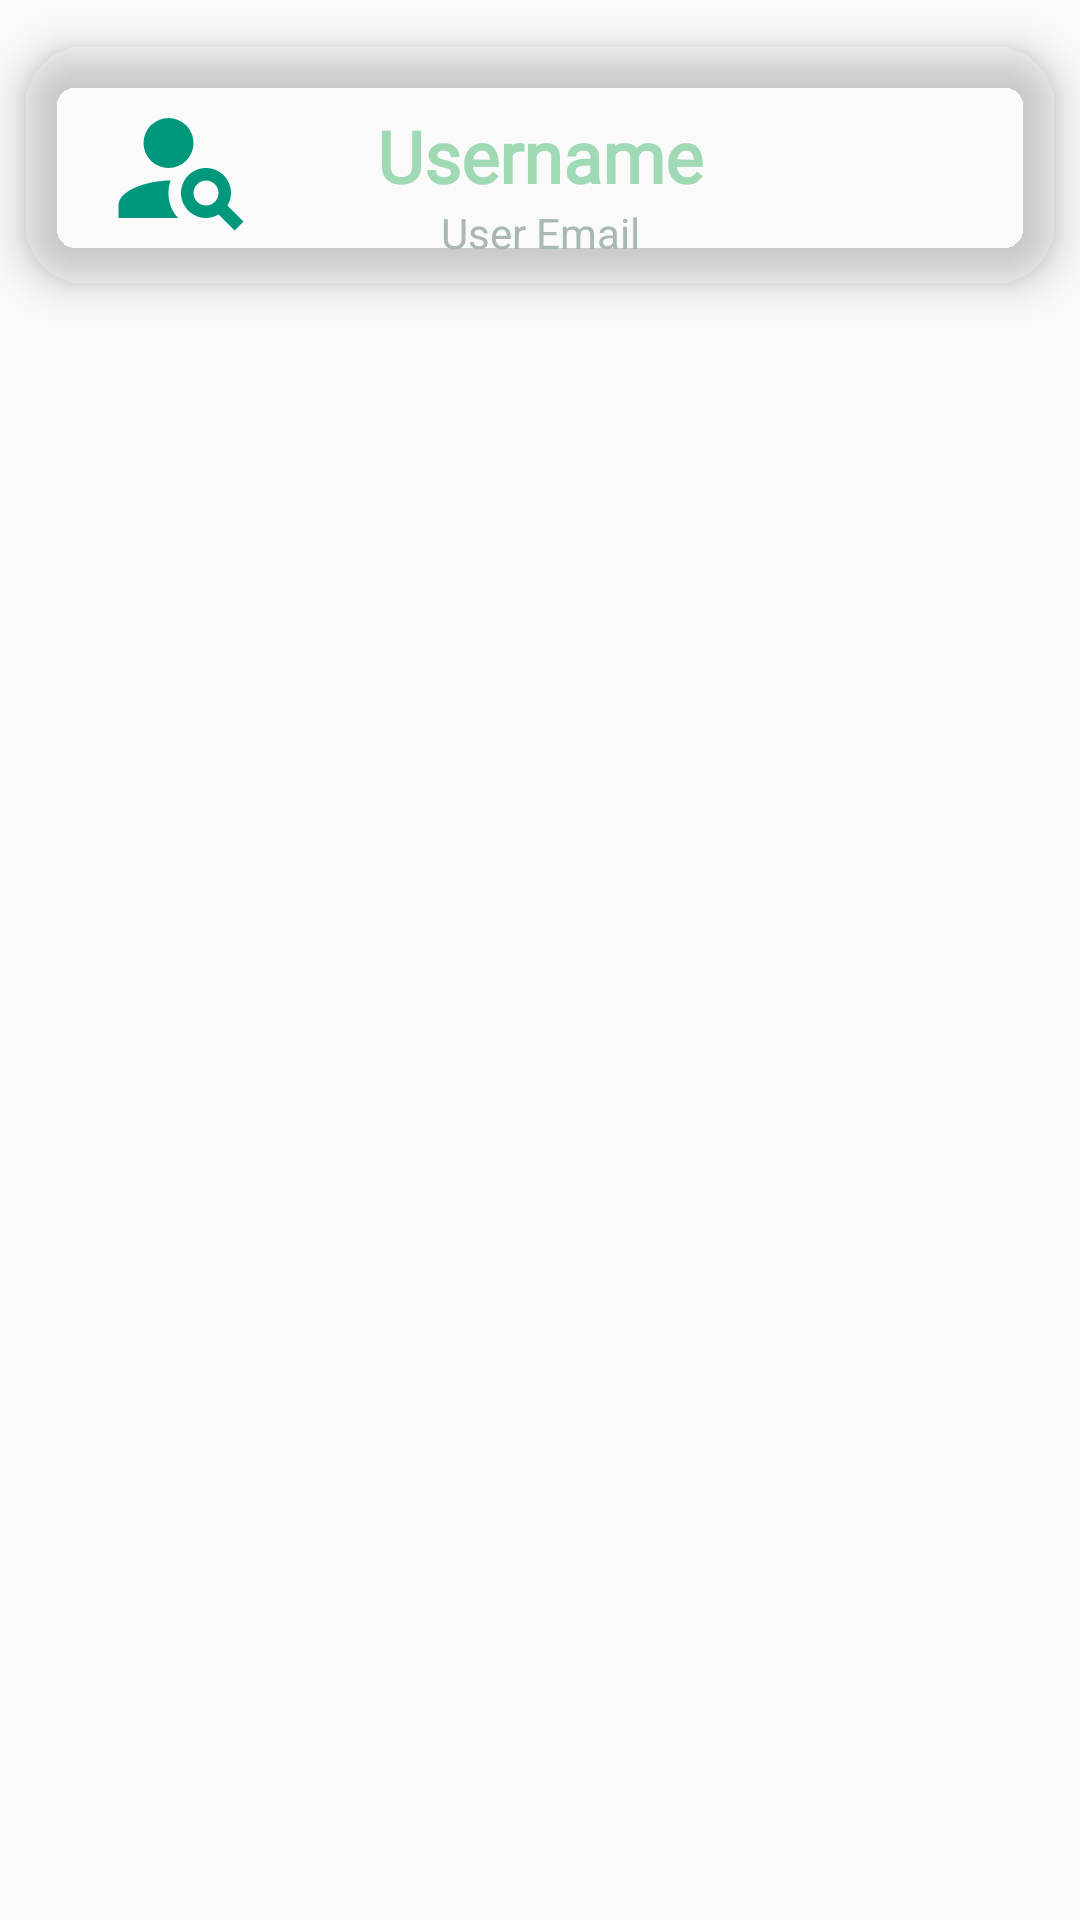

Icons on this 1080x1920 Android screen, each with the point to tap as [x,y]:
person search: [181,174]
